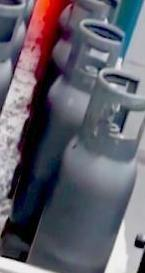cylinder: (1, 1, 145, 273)
